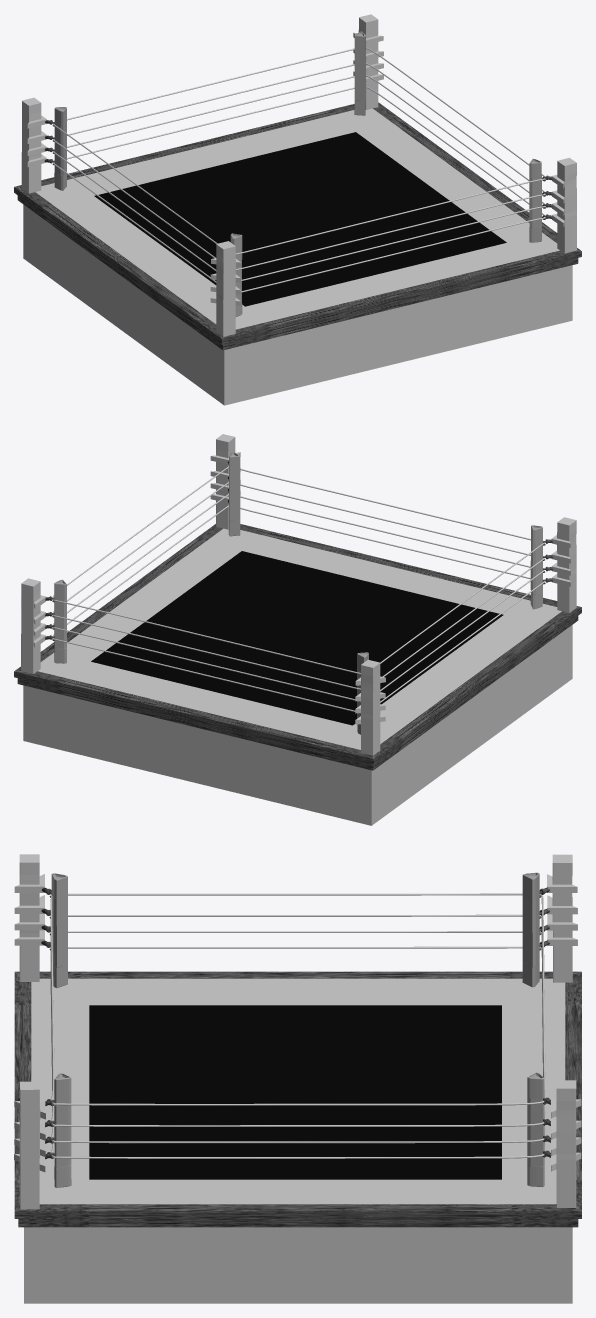
The model's file is BOXING RING.fbx.
3 renders of one model, top to bottom at view 1: azimuth 30°, elevation 25°; view 2: azimuth 150°, elevation 25°; view 3: azimuth 270°, elevation 25°, orthographic. The views are drawn at different scales.
Visible parts, largest first — view 1: pCube1, pCube18, pCube15, pCylinder30, pCube20, pCylinder31, pCylinder33, pCylinder32, pCube16, pCube21, pCube14, pCube17 (+1 smaller); view 2: pCube1, pCube15, pCylinder30, pCube18, pCube16, pCylinder31, pCylinder33, pCylinder32, pCube20, pCube17, pCube21, pCube19; view 3: pCube1, pCylinder30, pCube20, pCube16, pCube18, pCube15, pCylinder33, pCylinder31, pCylinder32, pCube14, pCube21, pCube17 (+1 smaller).
Boxes of the visible parts, <box> form: pCube1: <box>14,102,581,405</box>; pCube18: <box>210,241,241,336</box>; pCube15: <box>21,97,46,193</box>; pCylinder30: <box>53,47,545,254</box>; pCube20: <box>551,157,576,253</box>; pCylinder31: <box>53,63,545,270</box>; pCylinder33: <box>53,75,545,281</box>; pCylinder32: <box>53,86,545,292</box>; pCube16: <box>353,14,383,109</box>; pCube21: <box>529,158,541,242</box>; pCube14: <box>54,107,66,190</box>; pCube17: <box>354,31,365,115</box>; pCube1: <box>14,524,581,825</box>; pCube15: <box>355,659,385,755</box>; pCylinder30: <box>52,466,543,674</box>; pCube18: <box>551,517,576,612</box>; pCube16: <box>21,578,46,673</box>; pCylinder31: <box>52,482,543,689</box>; pCylinder33: <box>53,494,543,701</box>; pCylinder32: <box>52,505,543,713</box>; pCube20: <box>210,434,240,529</box>; pCube17: <box>54,579,66,663</box>; pCube21: <box>228,452,240,536</box>; pCube19: <box>530,525,542,609</box>; pCube1: <box>14,971,581,1303</box>; pCylinder30: <box>50,893,545,1105</box>; pCube20: <box>14,1081,45,1209</box>; pCube16: <box>551,1080,581,1207</box>; pCube18: <box>14,854,44,981</box>; pCube15: <box>547,854,577,982</box>; pCylinder33: <box>50,931,545,1143</box>; pCylinder31: <box>50,914,545,1126</box>; pCylinder32: <box>50,946,545,1158</box>; pCube14: <box>522,872,539,987</box>; pCube21: <box>54,1073,71,1187</box>; pCube17: <box>527,1072,544,1187</box>.
Size of the model in its own units: 741 by 311 by 742.
